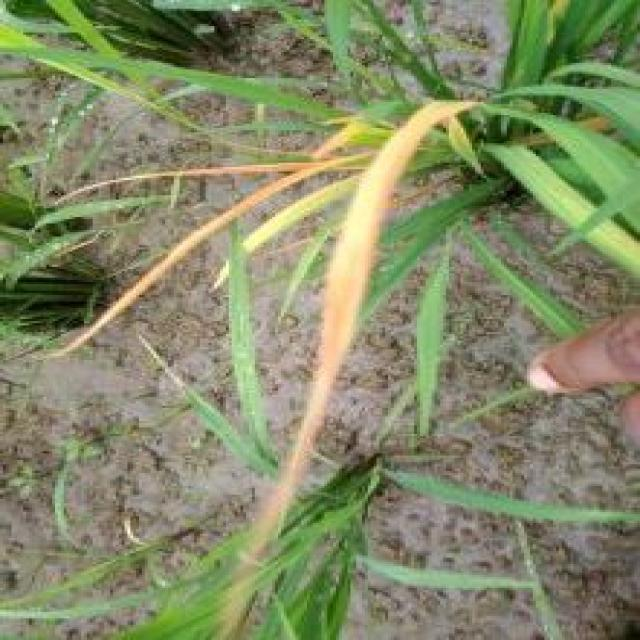Tungro: (232, 90, 459, 573)
